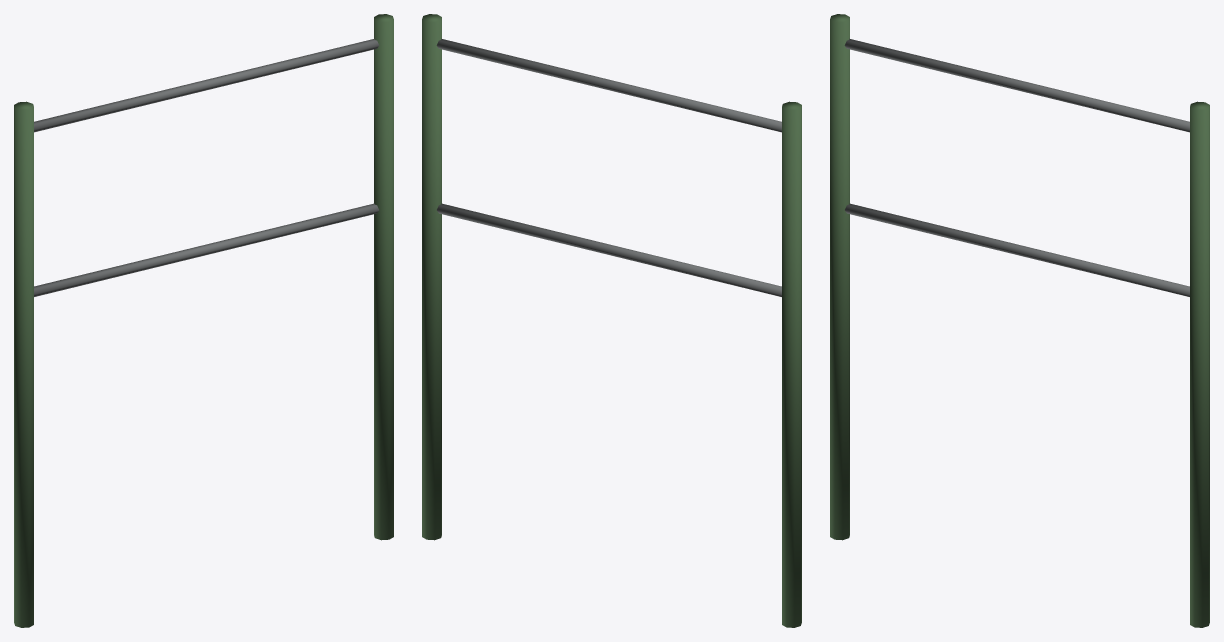
File: horizontal_bar.glb
3 renders of one model, left to right at view 1: azimuth 30°, elevation 25°; view 2: azimuth 150°, elevation 25°; view 3: azimuth 330°, elevation 25°, orthographic.
Parts seen in each view (by area): view 1: HorizontalBar; view 2: HorizontalBar; view 3: HorizontalBar.
Boxes of the visible parts, box(x1,y1,x2,y2) form: HorizontalBar: box(14, 14, 393, 627); HorizontalBar: box(422, 14, 801, 627); HorizontalBar: box(830, 14, 1209, 627).
Bounding box in the file's own units: 1.68 × 2.2 × 0.08.
